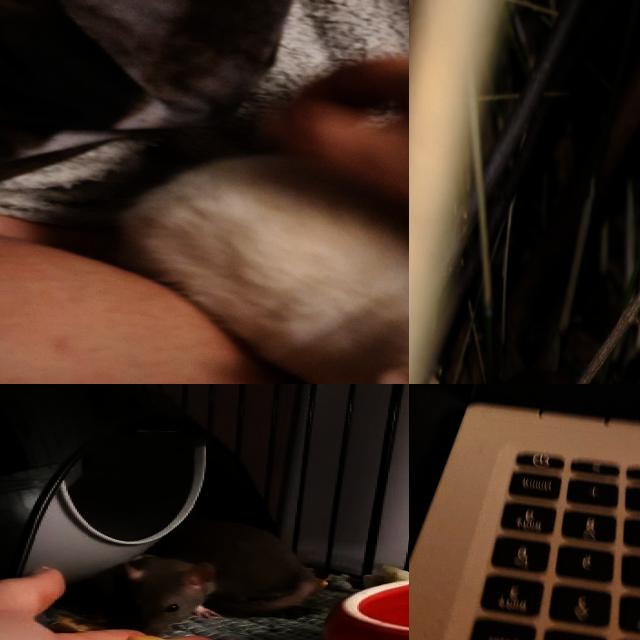rat: (118, 157, 409, 384), (162, 520, 314, 612), (110, 553, 218, 639)
